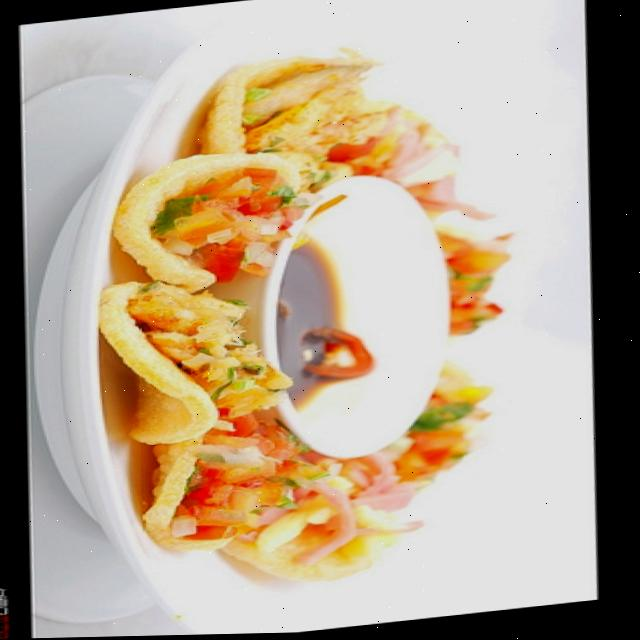炸货点心: (3, 10, 588, 639)
熟制海鲜: (3, 10, 588, 639)
